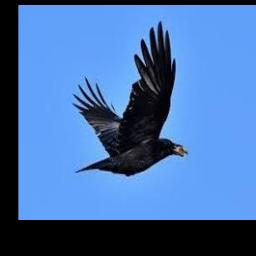Crow: (74, 21, 187, 175)
